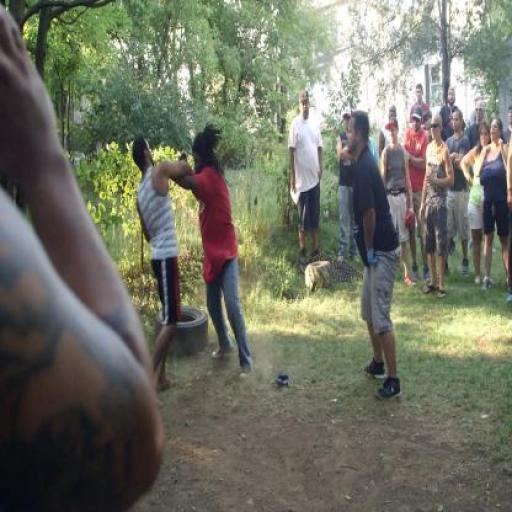Fighting: (135, 124, 269, 395)
